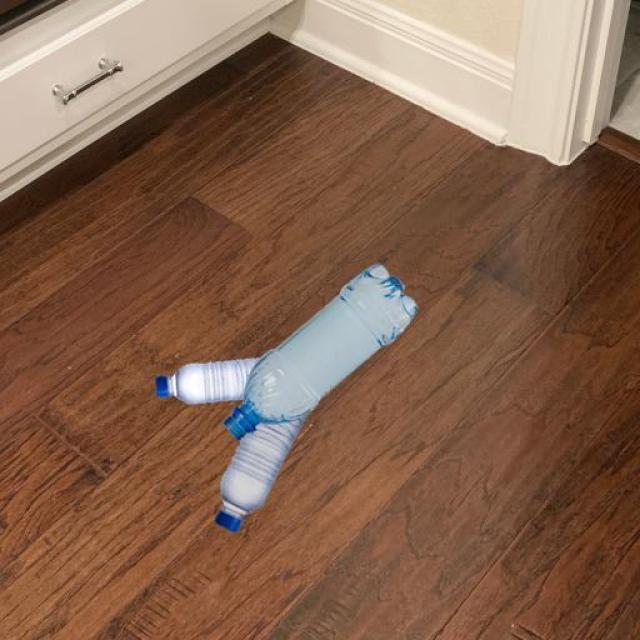bottle: (180, 263, 417, 513)
